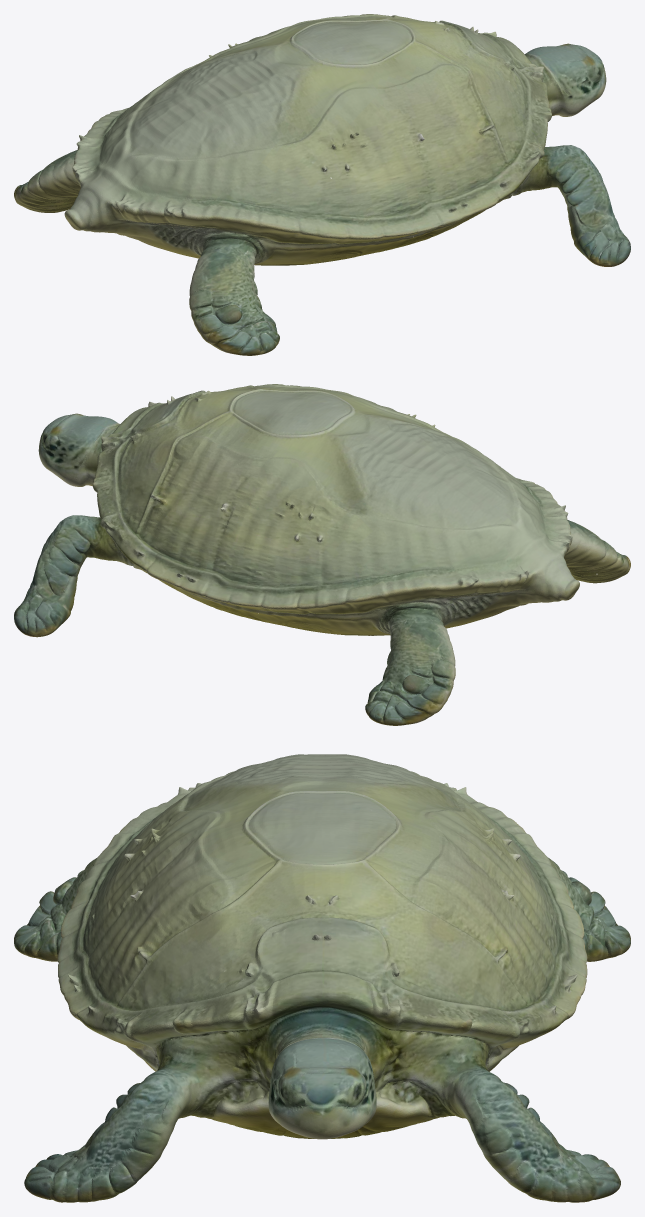
File: sea_turtle_3d_model_7.glb
The picture shows the model from 3 angles, top to bottom: view 1: azimuth 30°, elevation 25°; view 2: azimuth 150°, elevation 25°; view 3: azimuth 270°, elevation 25°; orthographic projection. The views are drawn at different scales.
Visible parts, largest first — view 1: tripo_node_fb8ca28d-afbd-495a-a991-0cacfff9f1db; view 2: tripo_node_fb8ca28d-afbd-495a-a991-0cacfff9f1db; view 3: tripo_node_fb8ca28d-afbd-495a-a991-0cacfff9f1db.
Part boxes in pixels (left/top/right/bottom): tripo_node_fb8ca28d-afbd-495a-a991-0cacfff9f1db: left=14, top=14, right=630, bottom=355; tripo_node_fb8ca28d-afbd-495a-a991-0cacfff9f1db: left=14, top=384, right=630, bottom=725; tripo_node_fb8ca28d-afbd-495a-a991-0cacfff9f1db: left=14, top=754, right=630, bottom=1202.
Size of the model in its own units: 0.9996 by 0.3418 by 0.7233.
1 material, 1 textured.
